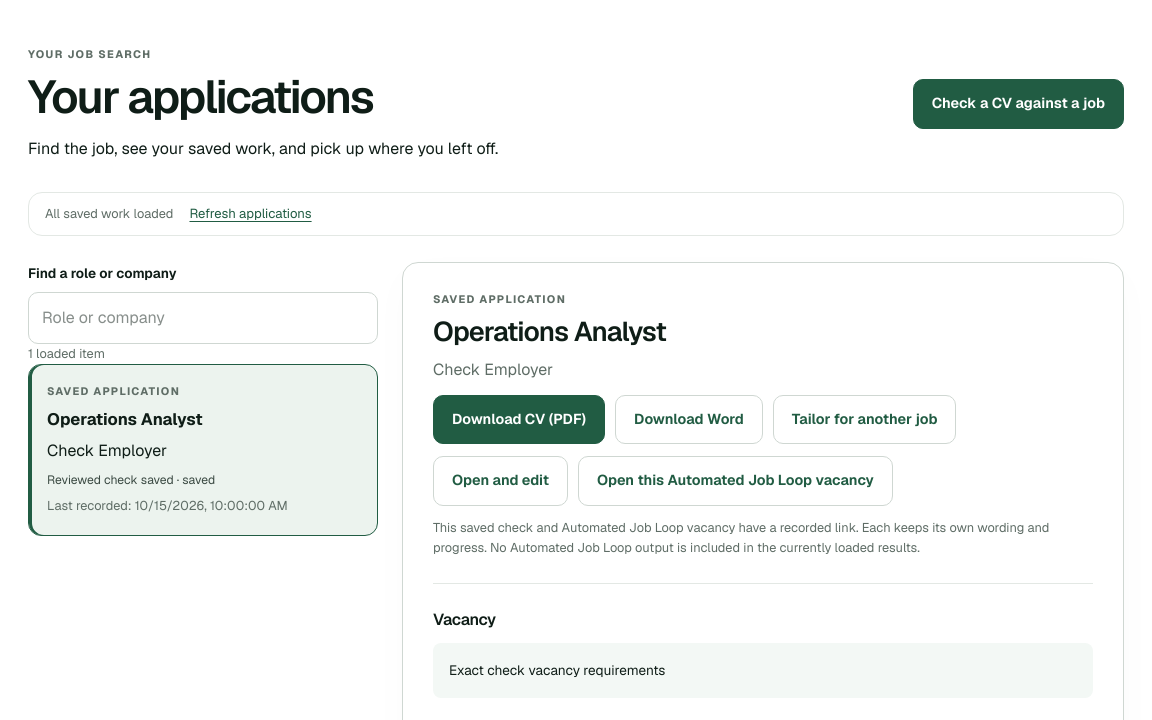
Test: Applications home actual saved work › never resolves an old joined vacancy bookmark after a generation change
Expected: the text "All saved work loaded" is shown, x1=45 y1=204 x2=174 y2=224
Click the button "Refresh applications". click: (251,214)
box: x1=190 y1=203 x2=312 y2=225
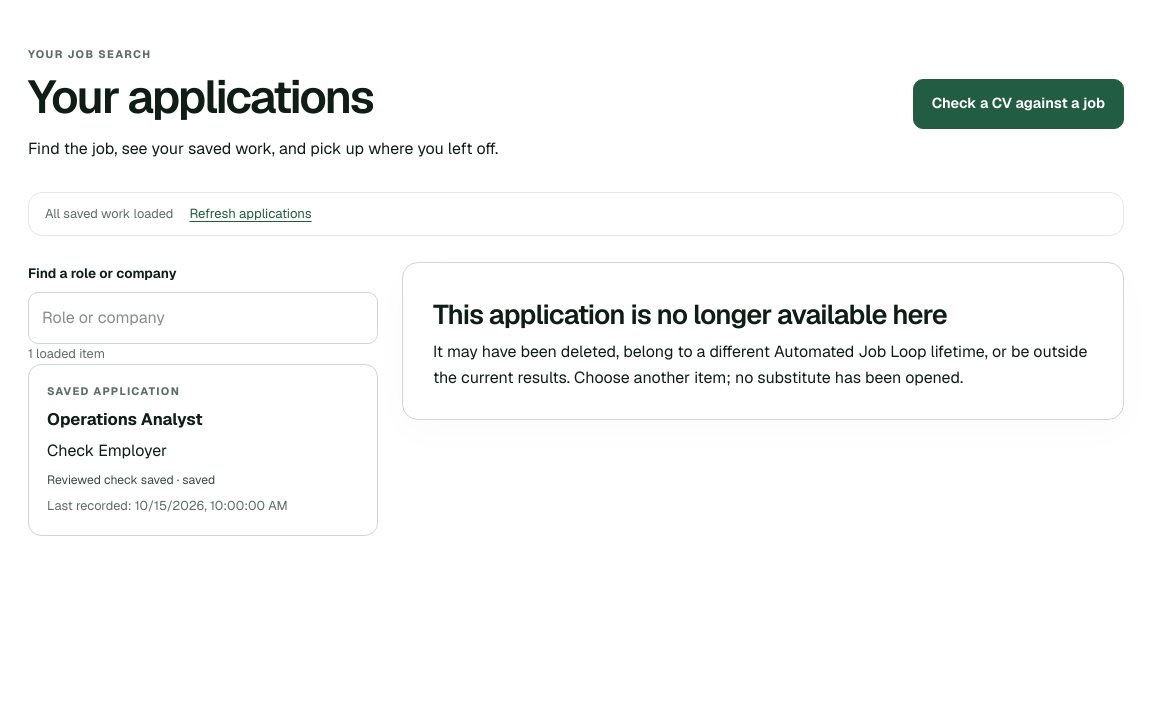
Expected: the text "All saved work loaded" is shown, x1=45 y1=204 x2=174 y2=224
Expected: the heading "This application is no longer available here" is shown, x1=433 y1=297 x2=947 y2=332
Expected: the link "Open this Automated Job Loop vacancy" is gone
